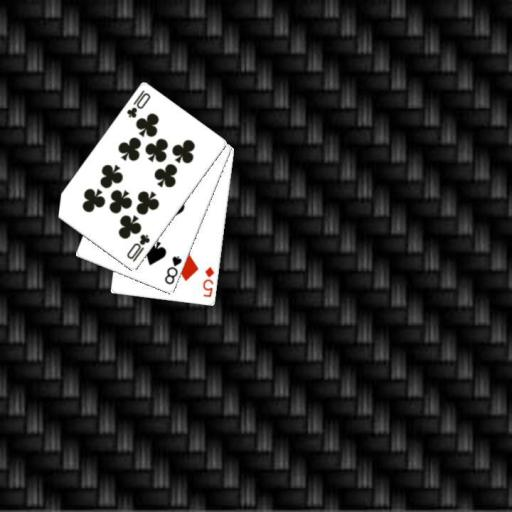10C: (124, 87, 152, 120), (124, 231, 151, 264)
5D: (200, 264, 216, 299)
8S: (162, 252, 184, 286)
